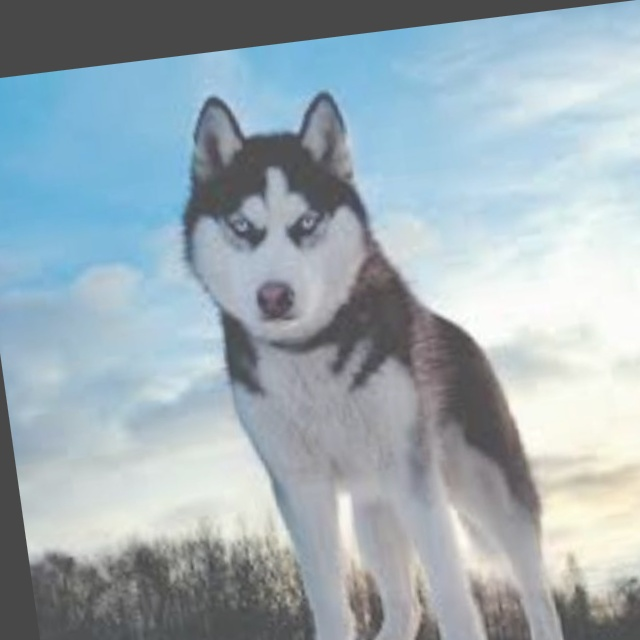dog: (98, 44, 614, 640)
